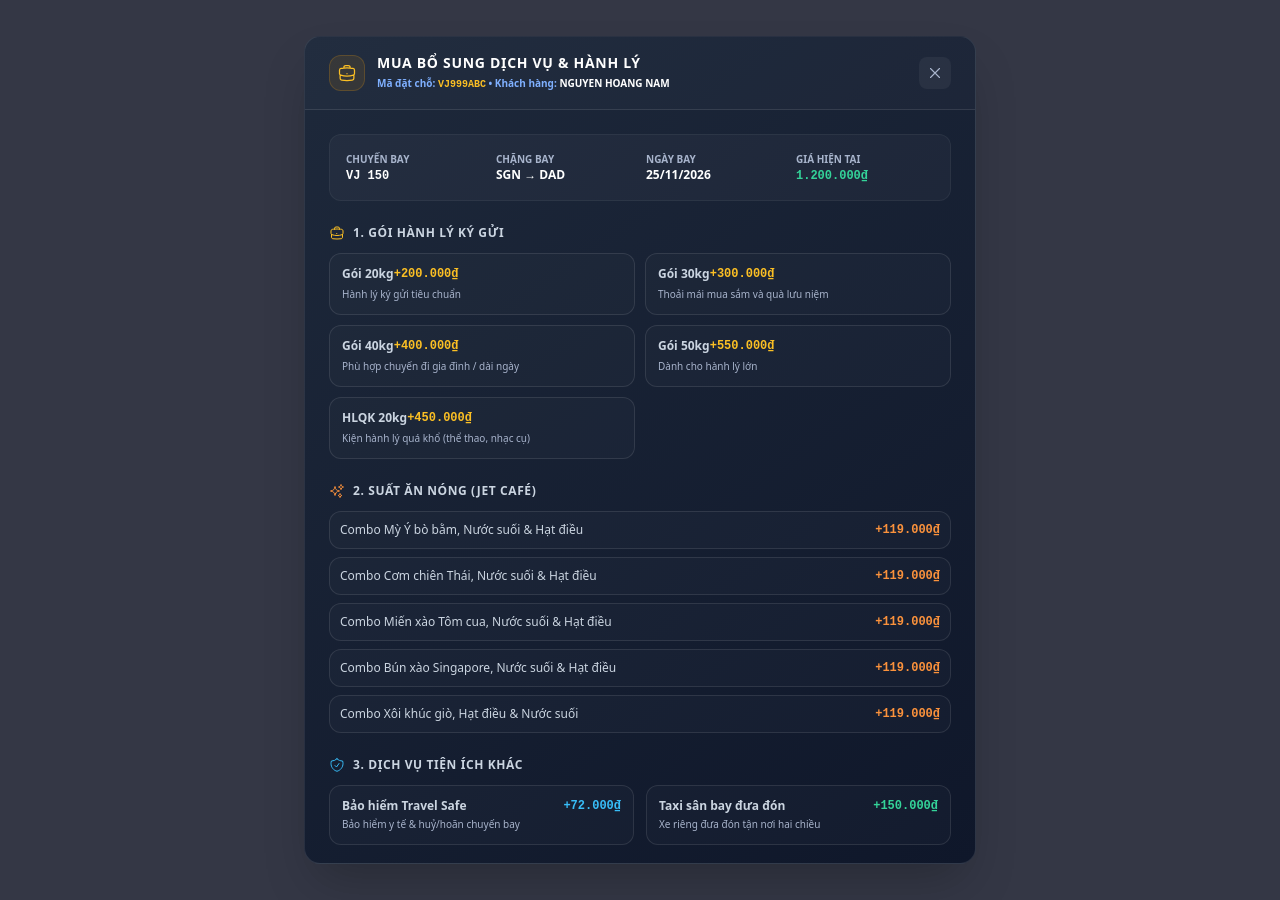
Scenario: AncillaryUpsellModal & POST /api/quan-tri/dat-ve/[id]/dich-vu › AncillaryUpsellModal render danh sách gói hành lý, combo suất ăn, bảo hiểm và tính toán tổng tiền chính xác
Later steps or results of the test are not shown.
Expected: the heading "Mua Bổ Sung Dịch Vụ & Hành Lý" is shown, [377,53,670,73]
Expected: the text "VJ999ABC" is shown, [438,79,486,90]
Click the button "Gói 20kg".
click(368, 274)  # box [329,253,635,315]
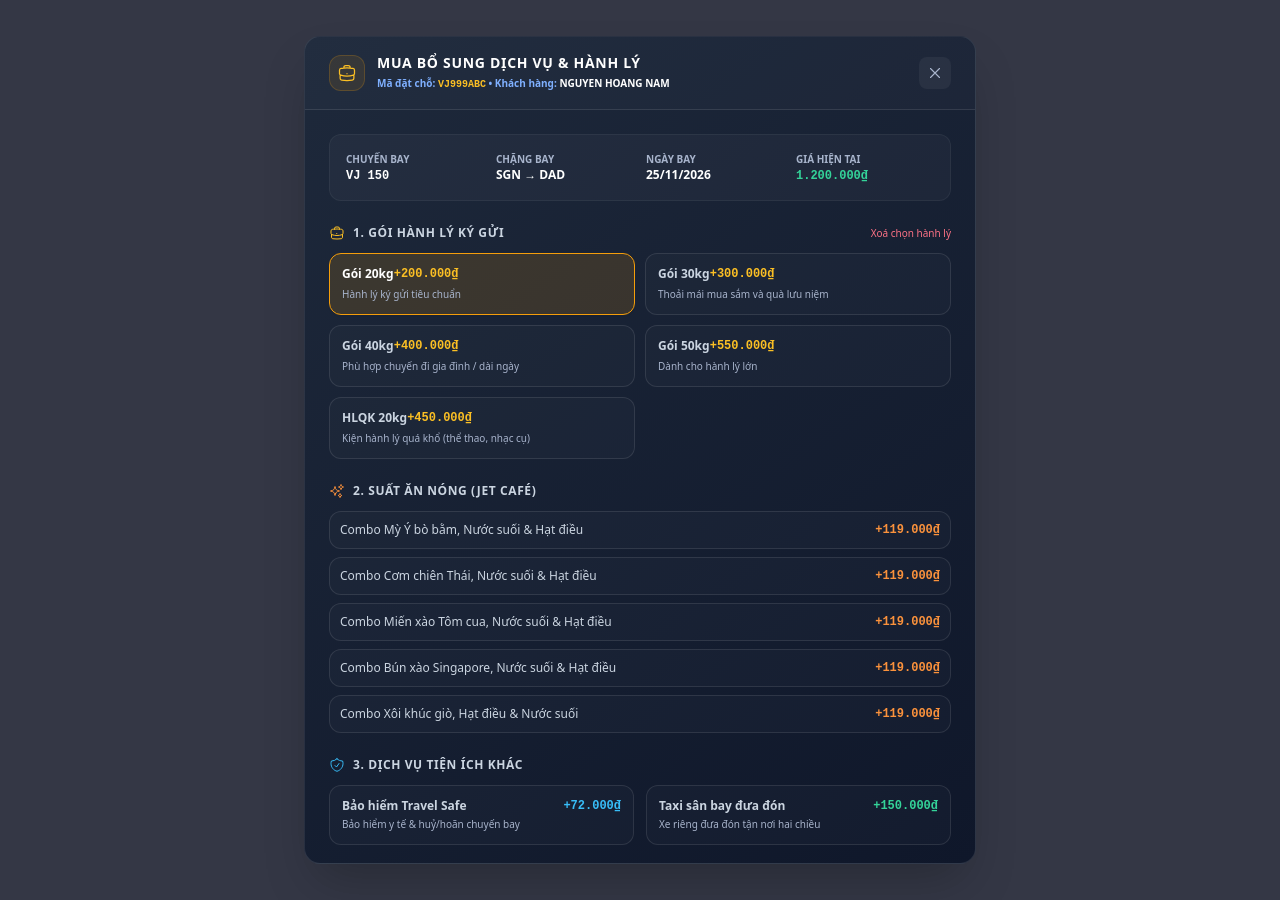
Click the button "Bảo hiểm Travel Safe".
click(482, 815)  # box [329,785,634,845]
(page scrolled)
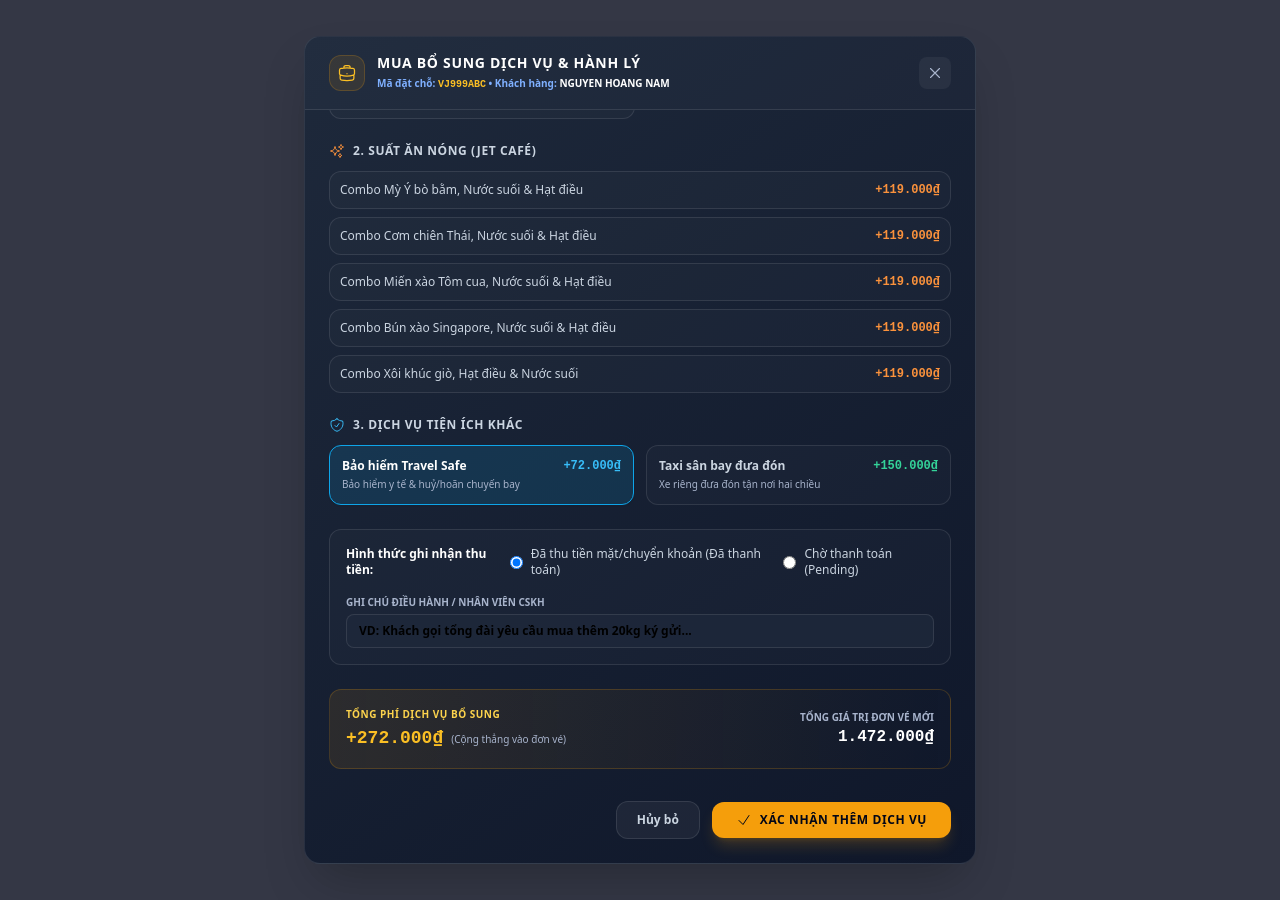
Result: the text "+272.000₫" is shown at [346,724,443,752]
Result: the button "Xác nhận thêm dịch vụ" is shown at [712,802,951,838]
